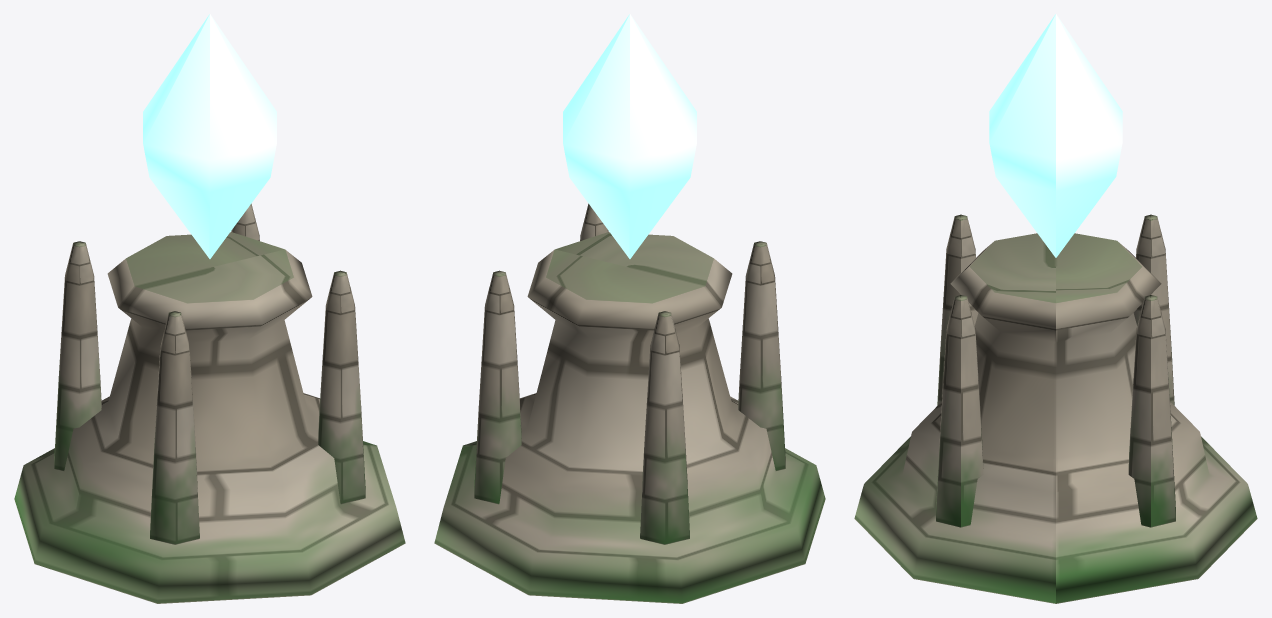
File: shrine_awake.glb
3 views of the same model, side by side, from view 1: azimuth 30°, elevation 25°; view 2: azimuth 150°, elevation 25°; view 3: azimuth 270°, elevation 25° (orthographic).
Parts seen in each view (by area): view 1: shrine, crystal; view 2: shrine, crystal; view 3: shrine, crystal.
Boxes of the visible parts, x1,y1,x2,y2 form: shrine: (14, 203, 405, 603); crystal: (143, 14, 276, 258); shrine: (434, 203, 825, 603); crystal: (563, 14, 696, 258); shrine: (854, 214, 1257, 603); crystal: (989, 14, 1122, 257).
Bounding box in the file's own units: 84 × 116 × 84.
Materials: 2 (1 with a texture image).
